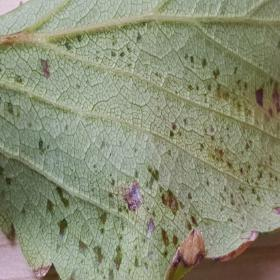Angular Leafspot: (0, 19, 279, 279)
